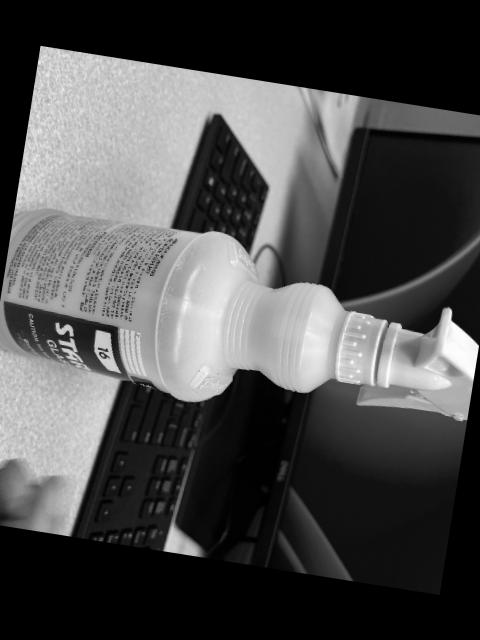StarSpray: (0, 207, 479, 421)
